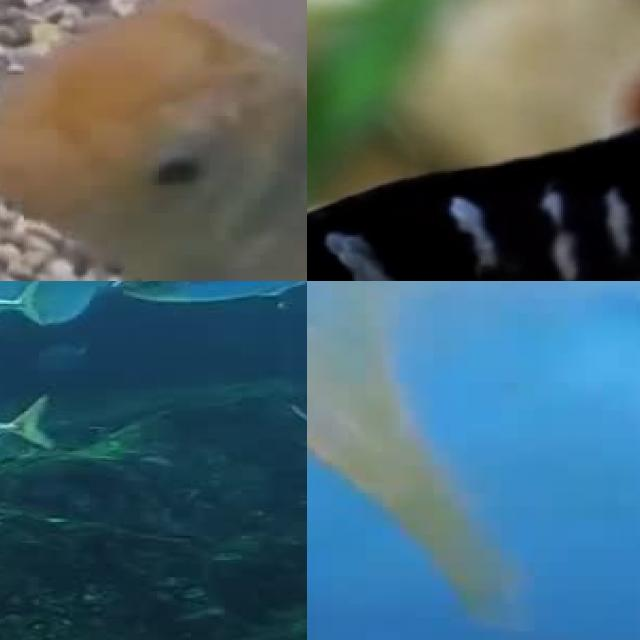fish: (307, 281, 640, 607), (0, 0, 307, 281)
